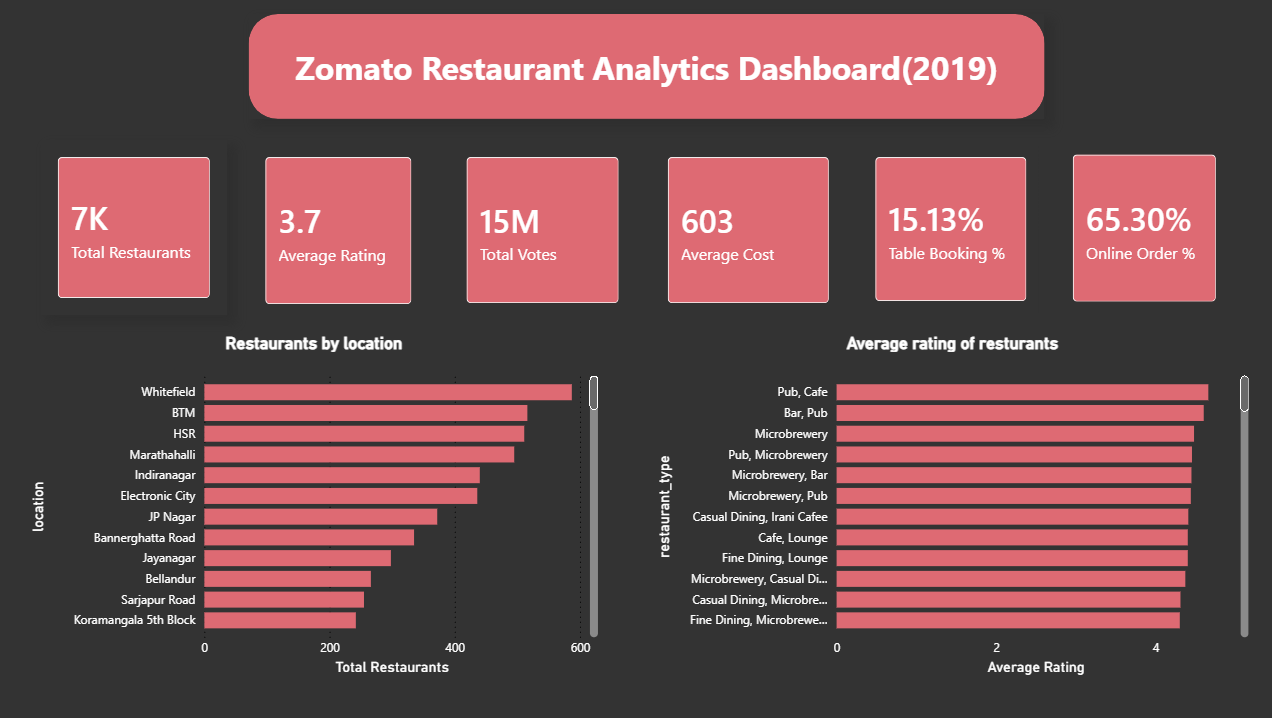

What the dashboard file says about the page in this screenshot:
{"tool":"powerbi","page":{"name":"Zomato_overview","canvas":[1280,720],"ordinal":0},"visuals":[{"type":"cardVisual","fields":{"Data":["cleaned_data_powerbi.Total Restaurants"]},"box":[66.2,138.8,186.2,182.5],"z":0},{"type":"cardVisual","fields":{"Data":["cleaned_data_powerbi.Average Rating"]},"box":[252.5,141.2,201.2,181.2],"z":1000},{"type":"cardVisual","fields":{"Data":["cleaned_data_powerbi.Total Votes"]},"box":[453.8,141.2,201.2,180],"z":2000},{"type":"cardVisual","fields":{"Data":["cleaned_data_powerbi.Average Cost"]},"box":[655,141.2,207.5,180],"z":3000},{"type":"cardVisual","fields":{"Data":["cleaned_data_powerbi.Online Order %"]},"box":[1057.5,138.8,180,181.2],"z":4000},{"type":"cardVisual","fields":{"Data":["cleaned_data_powerbi.Table Booking %"]},"box":[862.5,141.2,195,178.8],"z":5000},{"type":"clusteredBarChart","title":"Restaurants by location","fields":{"Category":["cleaned_data_powerbi.location"],"Y":["cleaned_data_powerbi.Total Restaurants"]},"box":[29.3,333.8,578.4,347.3],"z":6000},{"type":"shape","title":"Restaurant Performance, Customer Preferences & Market Insights","box":[252.5,15,796.2,105],"z":7000},{"type":"clusteredBarChart","title":"Average rating of resturants","fields":{"Category":["cleaned_data_powerbi.restaurant_type"],"Y":["cleaned_data_powerbi.Average Rating"]},"box":[655.4,333.8,602.9,347.3],"z":8000}]}

Visuals, with their boxes in screenshot pixels (x1, y1, x2, y2), scaled from the page's 1280x720 canvas onto the 1272x718 screenshot:
cardVisual - cleaned_data_powerbi.Total Restaurants: [x1=66, y1=138, x2=251, y2=320]
cardVisual - cleaned_data_powerbi.Average Rating: [x1=251, y1=141, x2=451, y2=322]
cardVisual - cleaned_data_powerbi.Total Votes: [x1=451, y1=141, x2=651, y2=320]
cardVisual - cleaned_data_powerbi.Average Cost: [x1=651, y1=141, x2=857, y2=320]
cardVisual - cleaned_data_powerbi.Online Order %: [x1=1051, y1=138, x2=1230, y2=319]
cardVisual - cleaned_data_powerbi.Table Booking %: [x1=857, y1=141, x2=1051, y2=319]
"Restaurants by location" clusteredBarChart: [x1=29, y1=333, x2=604, y2=679]
"Restaurant Performance, Customer Preferences & Market Insights" shape: [x1=251, y1=15, x2=1042, y2=120]
"Average rating of resturants" clusteredBarChart: [x1=651, y1=333, x2=1250, y2=679]
